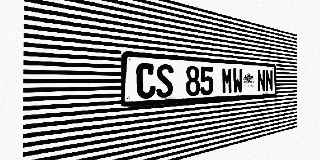5: (200, 66, 213, 95)
8: (186, 65, 200, 96)
C: (136, 63, 155, 99)
M: (222, 67, 233, 94)
N: (257, 69, 265, 92), (265, 70, 273, 92)
S: (156, 64, 173, 98)
W: (233, 68, 243, 94)
